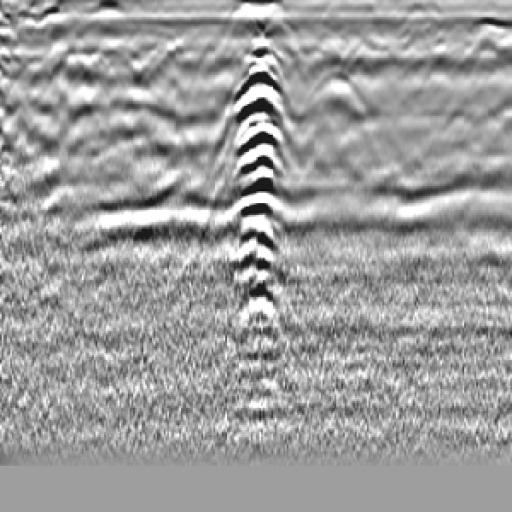metalic: (223, 32, 293, 385)
nonmetalic: (289, 46, 394, 162)
